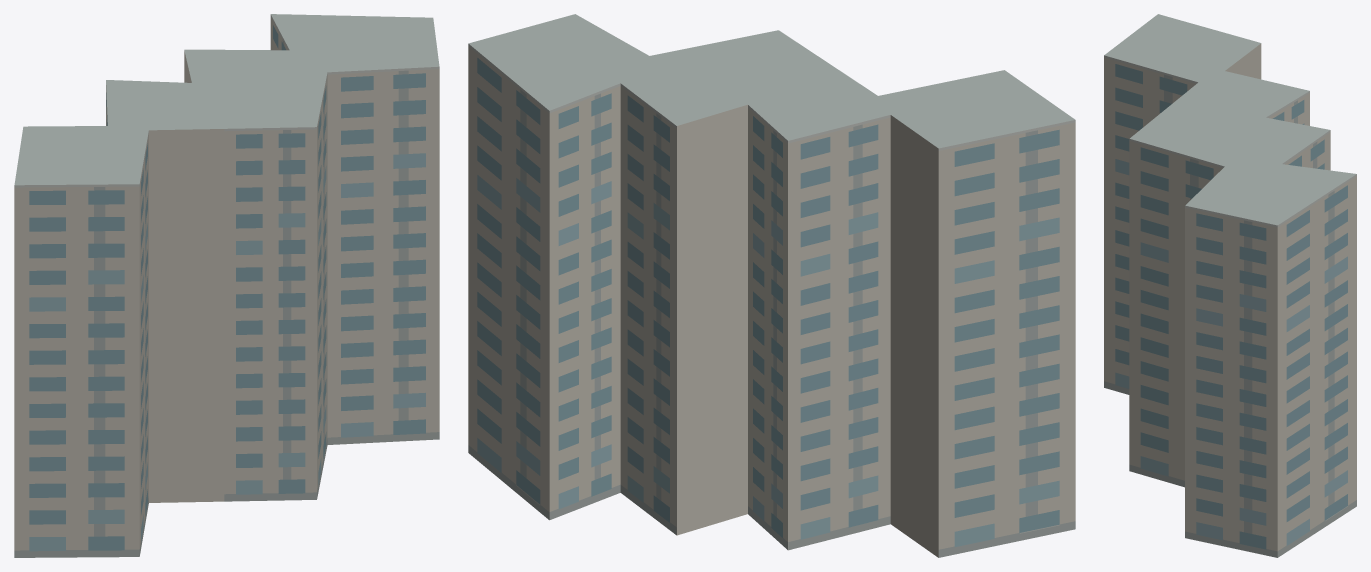
File: residential-d7c8b1dc-6882-418e-bd0b-b6e615ade3a2.glb
The picture shows the model from 3 angles, left to right: view 1: azimuth 30°, elevation 25°; view 2: azimuth 150°, elevation 25°; view 3: azimuth 270°, elevation 25°; orthographic projection. The views are drawn at different scales.
Parts seen in each view (by area): view 1: residential-d7c8b1dc-6882-418e-bd0b-b6e615ade3a2.tmp; view 2: residential-d7c8b1dc-6882-418e-bd0b-b6e615ade3a2.tmp; view 3: residential-d7c8b1dc-6882-418e-bd0b-b6e615ade3a2.tmp.
Part boxes in pixels (bbox=[...]): residential-d7c8b1dc-6882-418e-bd0b-b6e615ade3a2.tmp: bbox=[14, 14, 439, 557]; residential-d7c8b1dc-6882-418e-bd0b-b6e615ade3a2.tmp: bbox=[468, 14, 1075, 557]; residential-d7c8b1dc-6882-418e-bd0b-b6e615ade3a2.tmp: bbox=[1104, 14, 1356, 557].
Bounding box in the file's own units: 53.21 × 39 × 26.88.
